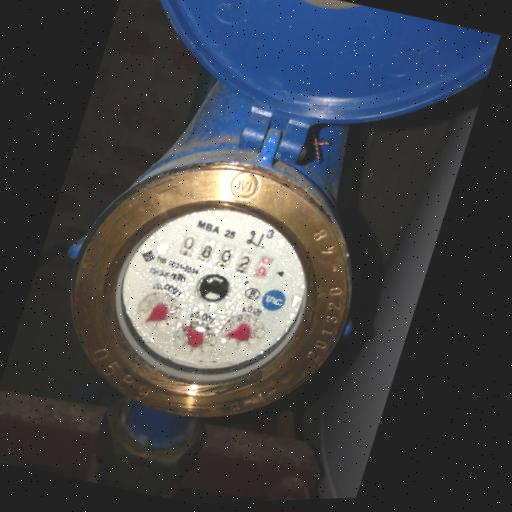0: (214, 244, 236, 270), (177, 232, 198, 258)
2: (234, 249, 255, 276)
8: (197, 238, 217, 263)
9: (252, 254, 274, 281)
border_water_meter_number: (169, 224, 285, 291)
